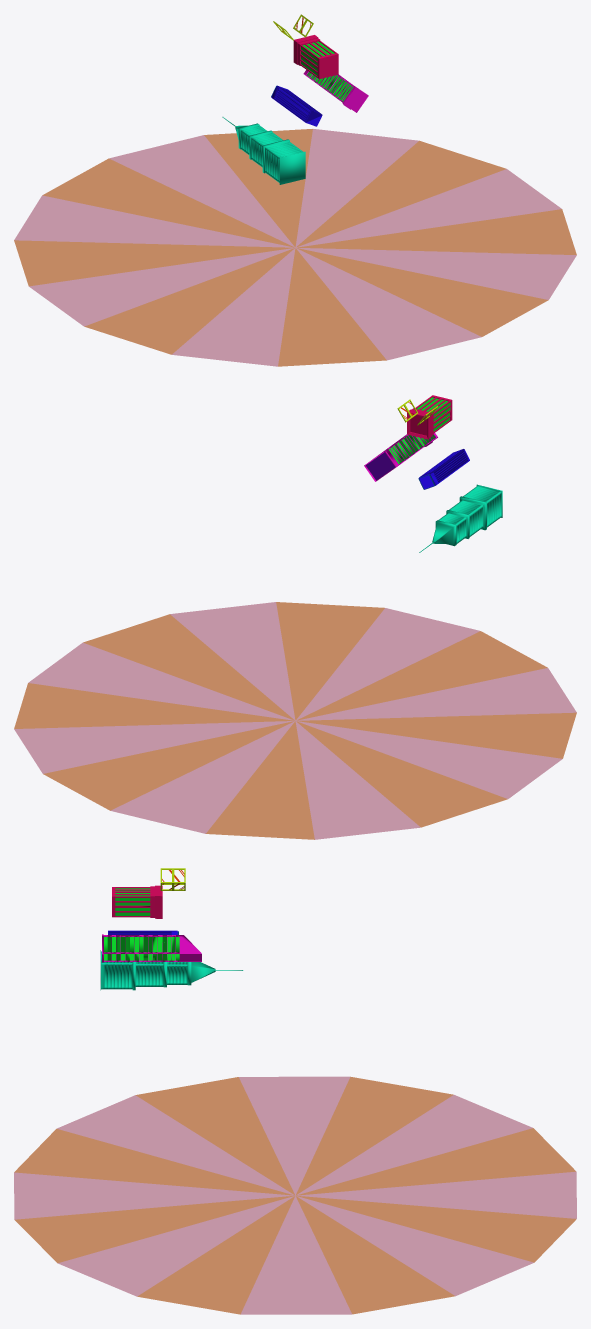
Rendered from building.gltf.
3 views of the same model, one above another, from view 1: azimuth 30°, elevation 25°; view 2: azimuth 150°, elevation 25°; view 3: azimuth 270°, elevation 25° (orthographic).
Parts seen in each view (by area): view 1: buildings; view 2: buildings; view 3: buildings.
Boxes of the visible parts, bbox=[...] form: buildings: bbox=[14, 14, 576, 366]; buildings: bbox=[14, 395, 576, 839]; buildings: bbox=[14, 868, 576, 1314].
Size of the model in its own units: 408 by 232 by 408.
